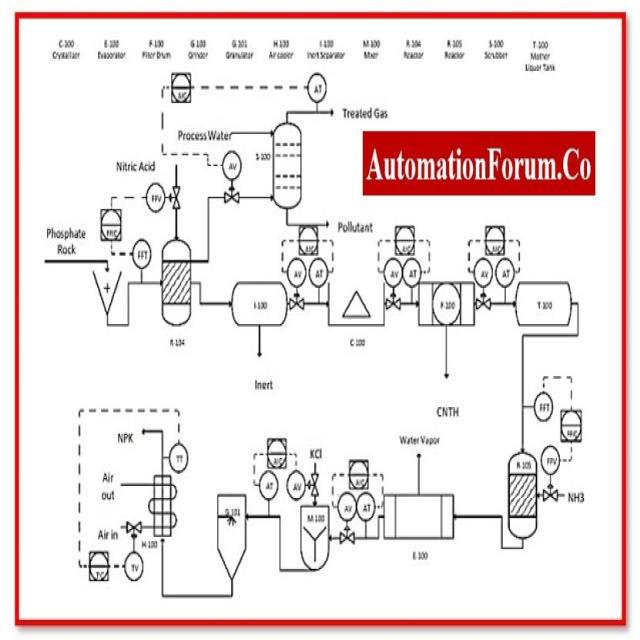Pneumatic-Diaphragm Gate Valve: (288, 288, 312, 322), (542, 478, 562, 509), (386, 286, 404, 318), (122, 518, 144, 543), (219, 185, 240, 211), (337, 522, 358, 548), (475, 288, 494, 316), (167, 184, 183, 212), (306, 470, 320, 500)
